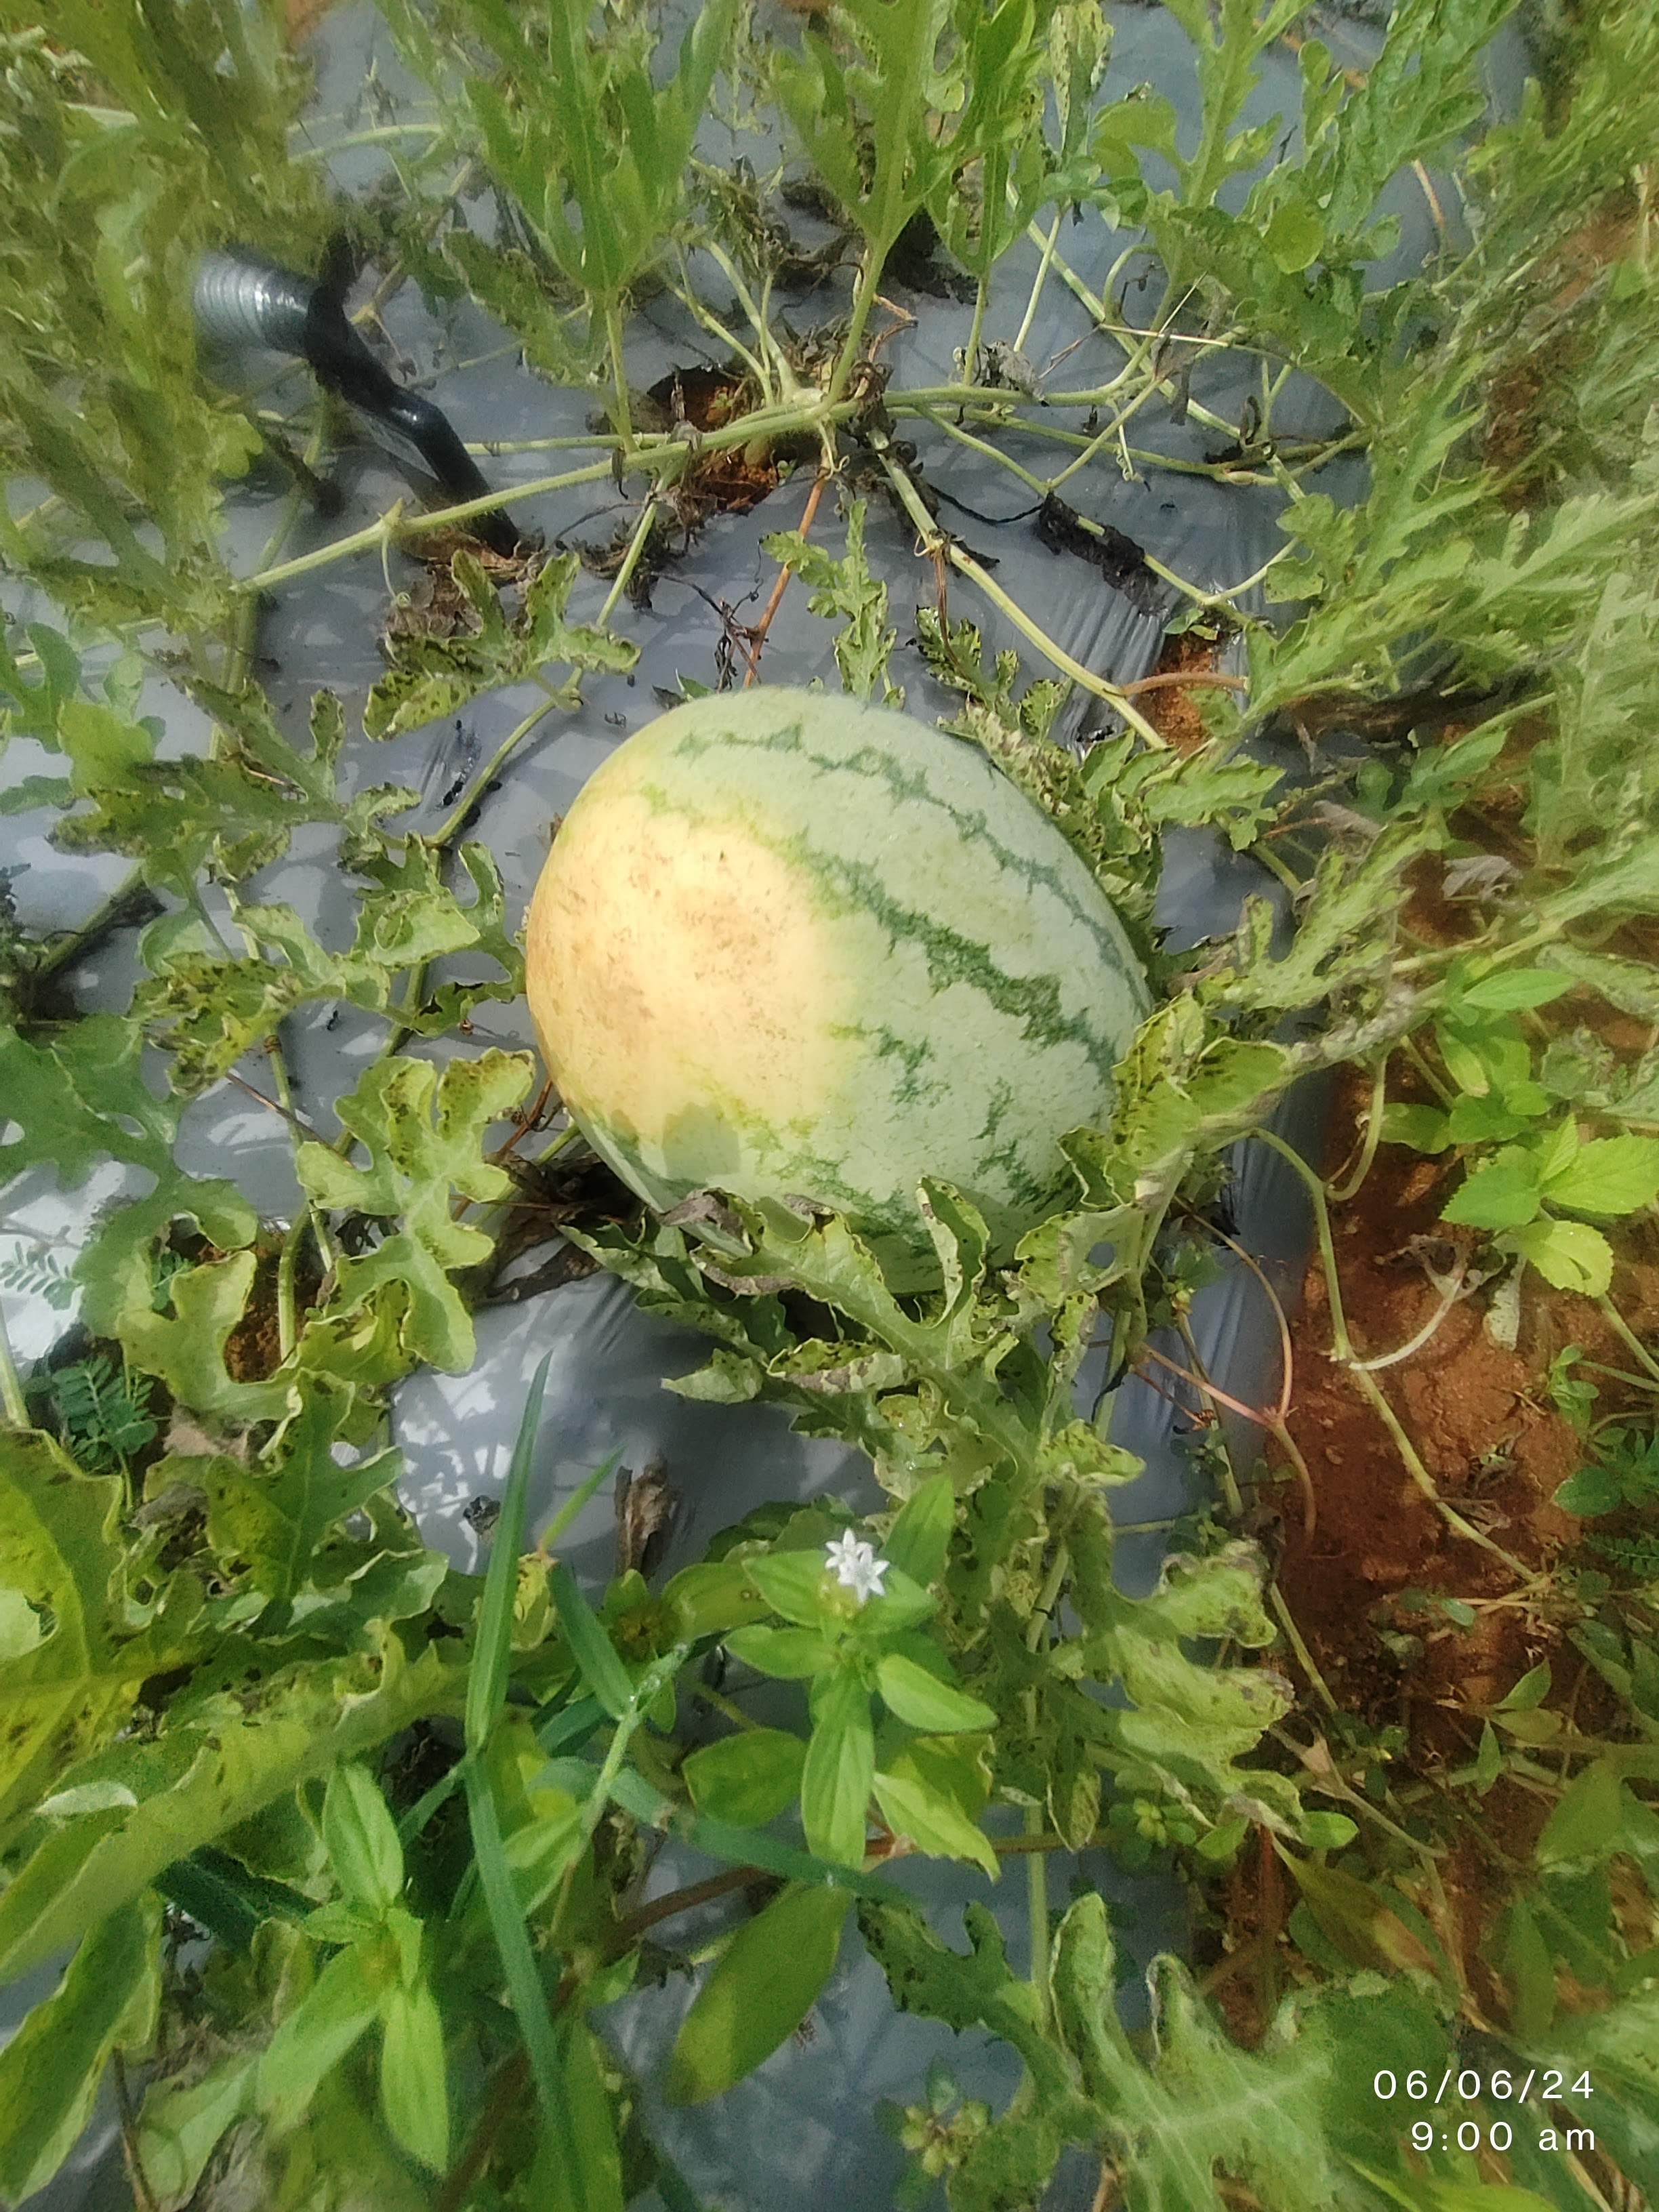not-good-to-harvest: (490, 503, 1201, 1383)
